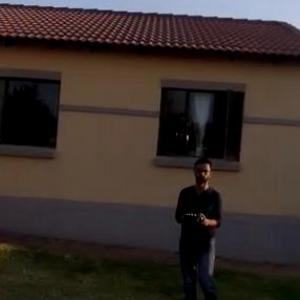follow: (171, 149, 228, 299)
